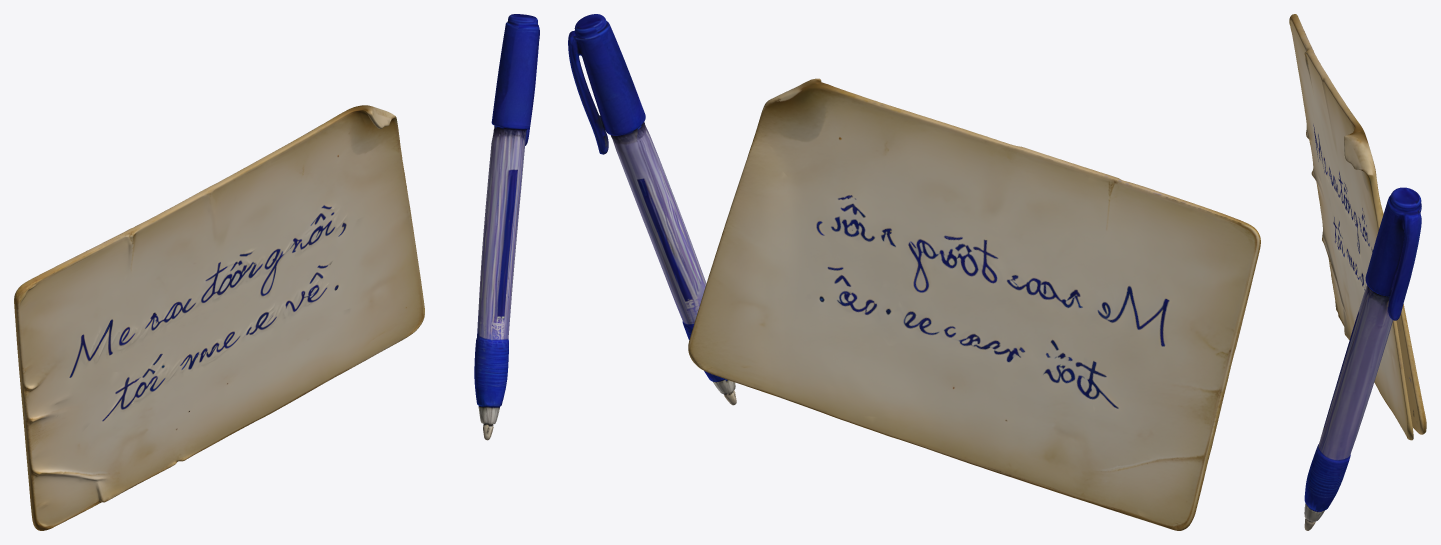
Rendered from SM_Letter.fbx.
The picture shows the model from 3 angles, left to right: view 1: azimuth 30°, elevation 25°; view 2: azimuth 150°, elevation 25°; view 3: azimuth 270°, elevation 25°; orthographic projection. The views are drawn at different scales.
Visible parts, largest first — view 1: Mesh_0; view 2: Mesh_0; view 3: Mesh_0.
Boxes of the visible parts, bbox=[...] form: Mesh_0: bbox=[14, 14, 539, 530]; Mesh_0: bbox=[568, 14, 1260, 530]; Mesh_0: bbox=[1289, 14, 1426, 530].
Bounding box in the file's own units: 104 × 63.82 × 20.89.
1 material, 1 textured.
